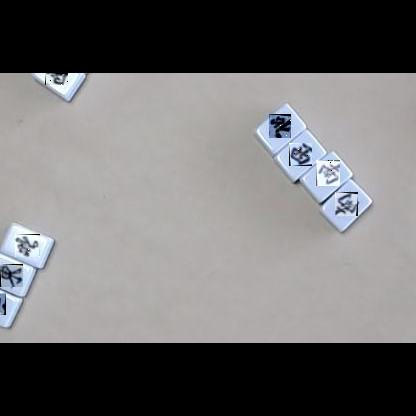1z: (0, 264, 23, 287)
2z: (316, 160, 340, 186), (335, 192, 358, 216)
3z: (289, 143, 312, 166), (45, 73, 68, 85), (0, 293, 6, 315)
4z: (15, 234, 40, 257), (269, 114, 291, 138)
